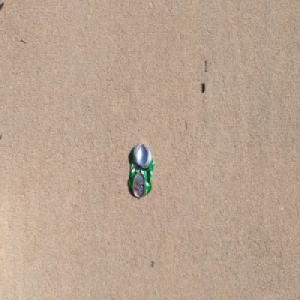SodaCan: (128, 142, 154, 199)
